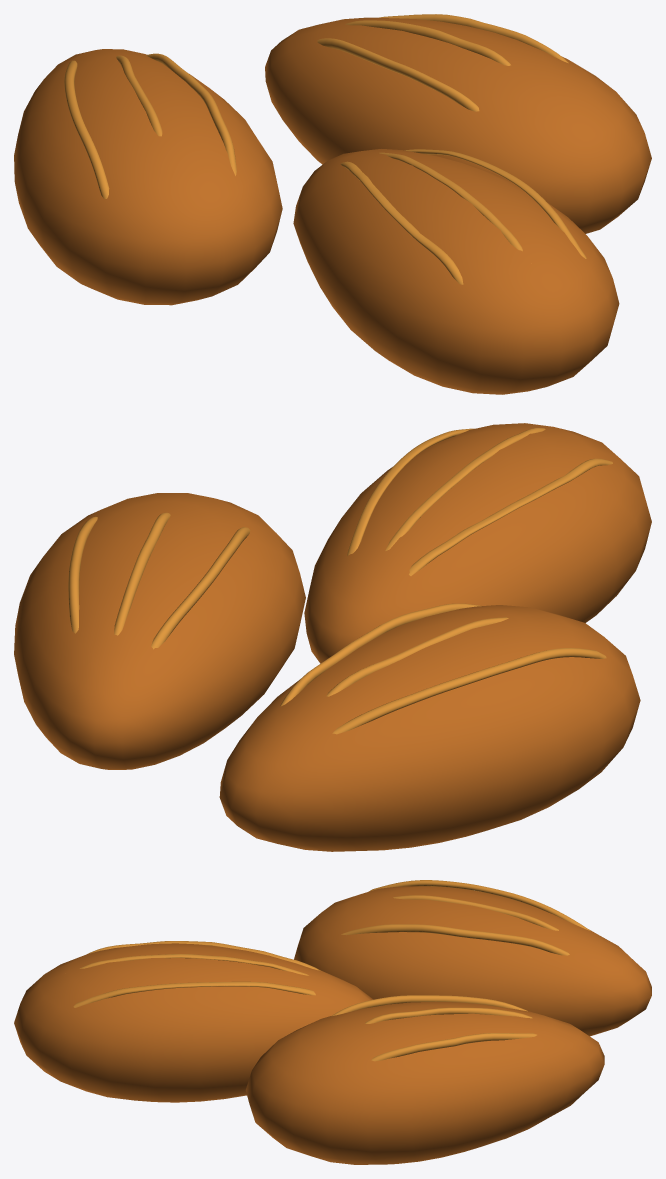
Rendered from Item_Almond.fbx.
The picture shows the model from 3 angles, top to bottom: view 1: azimuth 30°, elevation 25°; view 2: azimuth 150°, elevation 25°; view 3: azimuth 270°, elevation 25°; orthographic projection. The views are drawn at different scales.
Parts seen in each view (by area): view 1: Day_Almond.001; view 2: Day_Almond.001; view 3: Day_Almond.001.
Boxes of the visible parts, x1,y1,x2,y2 form: Day_Almond.001: [14, 14, 651, 394]; Day_Almond.001: [14, 423, 651, 851]; Day_Almond.001: [14, 880, 651, 1164].
Bounding box in the file's own units: 45.82 × 13.93 × 58.51.
